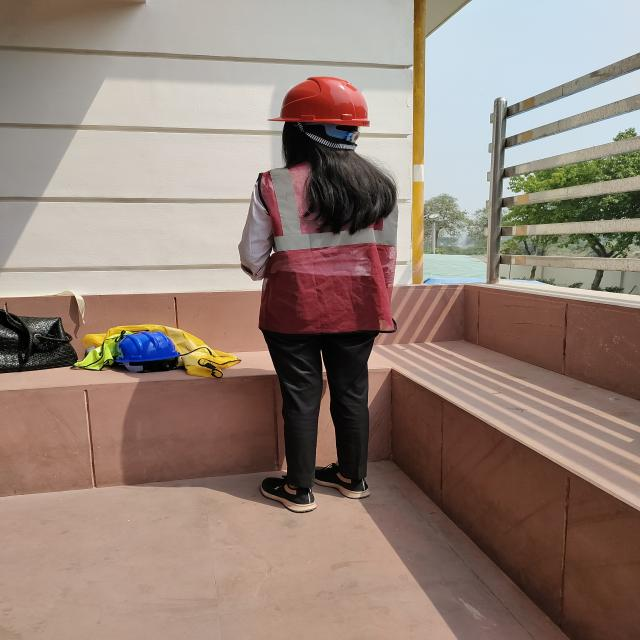safe: (243, 78, 396, 510)
